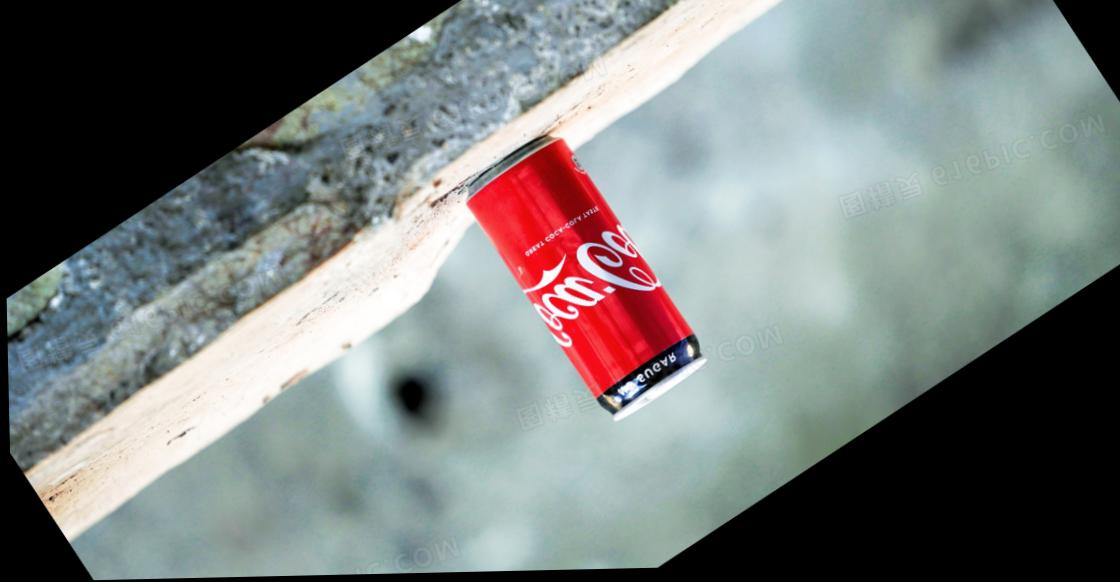metal: (468, 135, 705, 420)
